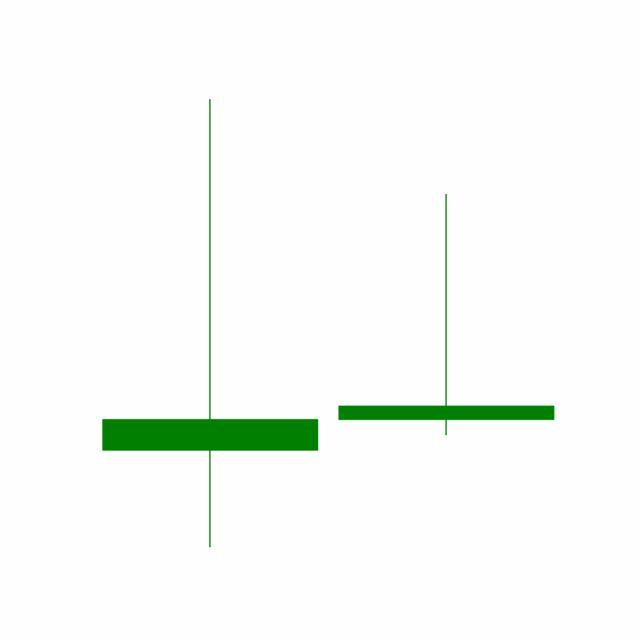Gravestone Doji: (328, 193, 566, 440)
